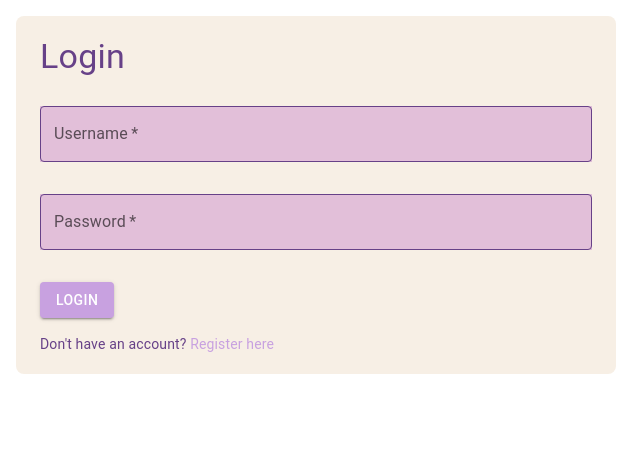
Test: User Login › should show an error for invalid login credentials
// Type invalid credentials into the login form
Type "invalidUser" into the field with id "username" at {"x": 316, "y": 134}, box [40,106,592,162]
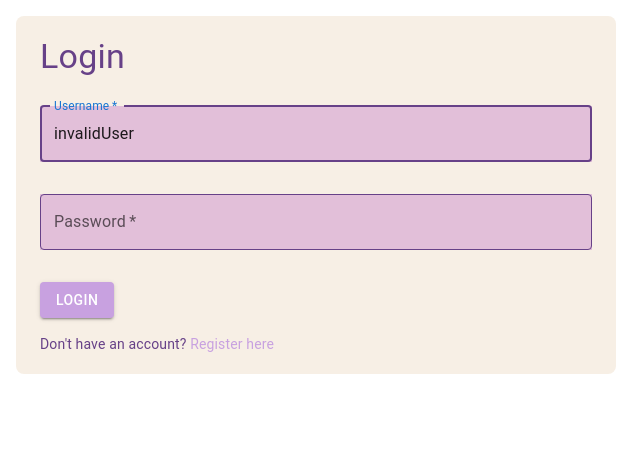
Type "invalidPass" into the password field labelled "Password *" at {"x": 316, "y": 222}, box [40,194,592,250]
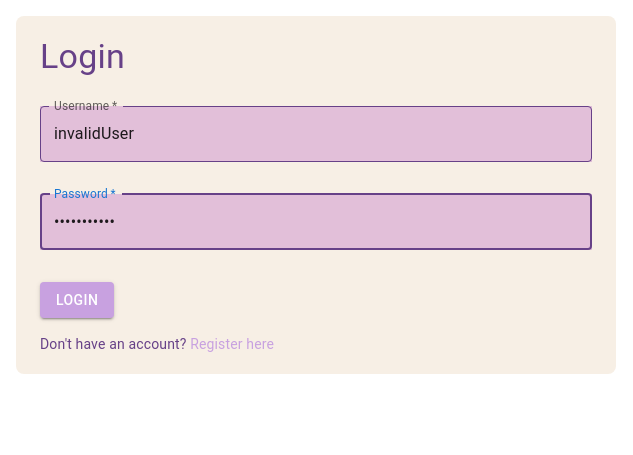
// Submit the form
Click the submit button at {"x": 77, "y": 301}, box [40,282,114,319]
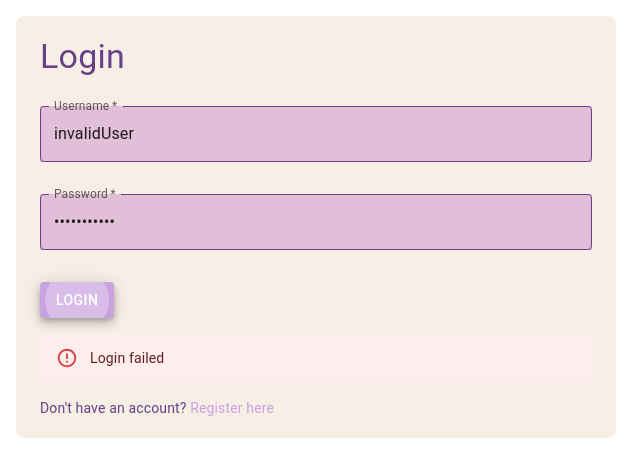
expect the message with class "error-message" reads "Login failed": met, box [40,334,592,382]
